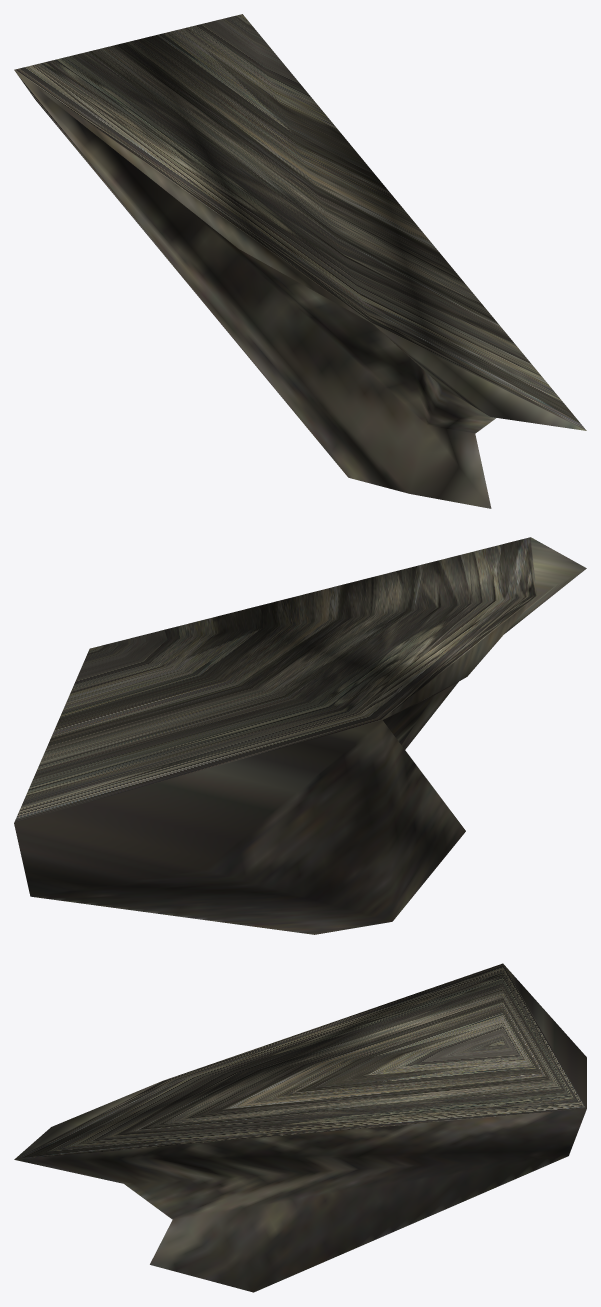
The model's file is RightJaw.fbx.
The picture shows the model from 3 angles, top to bottom: view 1: azimuth 30°, elevation 25°; view 2: azimuth 150°, elevation 25°; view 3: azimuth 270°, elevation 25°; orthographic projection. The views are drawn at different scales.
Parts seen in each view (by area): view 1: Statue07_c; view 2: Statue07_c; view 3: Statue07_c.
Boxes of the visible parts, x1,y1,x2,y2 form: Statue07_c: [14, 14, 586, 508]; Statue07_c: [14, 537, 586, 934]; Statue07_c: [14, 963, 586, 1292].
Bounding box in the file's own units: 13.91 × 20.46 × 42.5.
